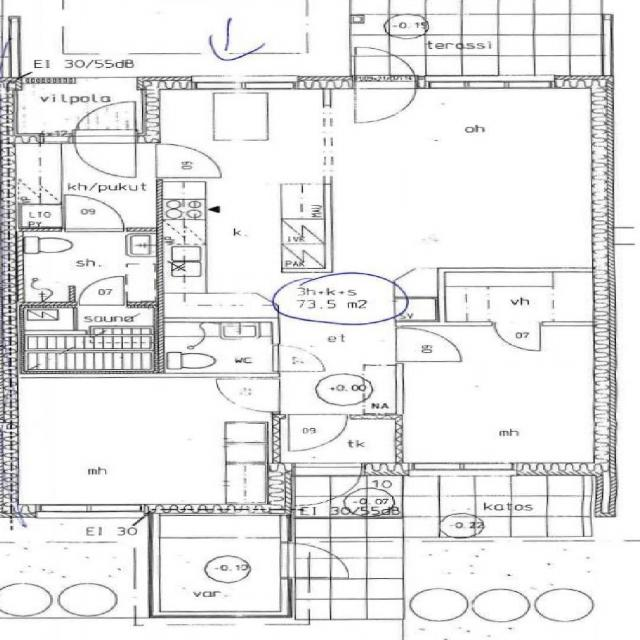door: (295, 463, 360, 513), (355, 76, 416, 124), (355, 42, 416, 89), (75, 133, 135, 177), (75, 100, 135, 143), (280, 543, 352, 578), (66, 193, 126, 231), (155, 144, 220, 178), (288, 414, 347, 451), (214, 379, 280, 412), (395, 328, 461, 361), (78, 276, 124, 308), (494, 322, 540, 352), (272, 345, 325, 371)
